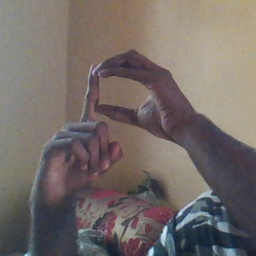P: (46, 47, 178, 181)
